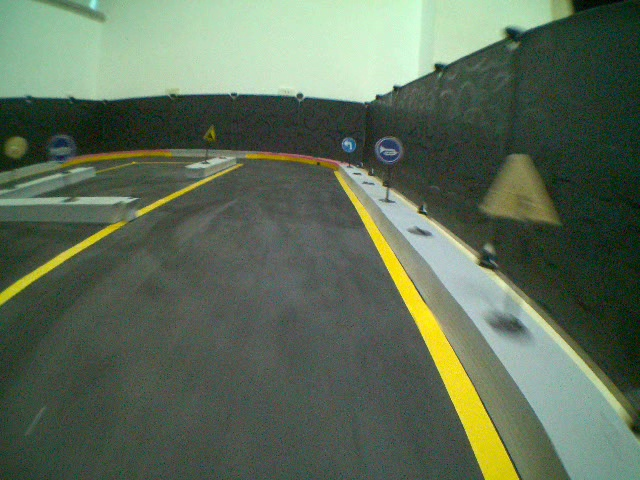fast: (204, 122, 217, 146)
horn: (373, 133, 406, 165)
turn: (340, 136, 356, 153)
